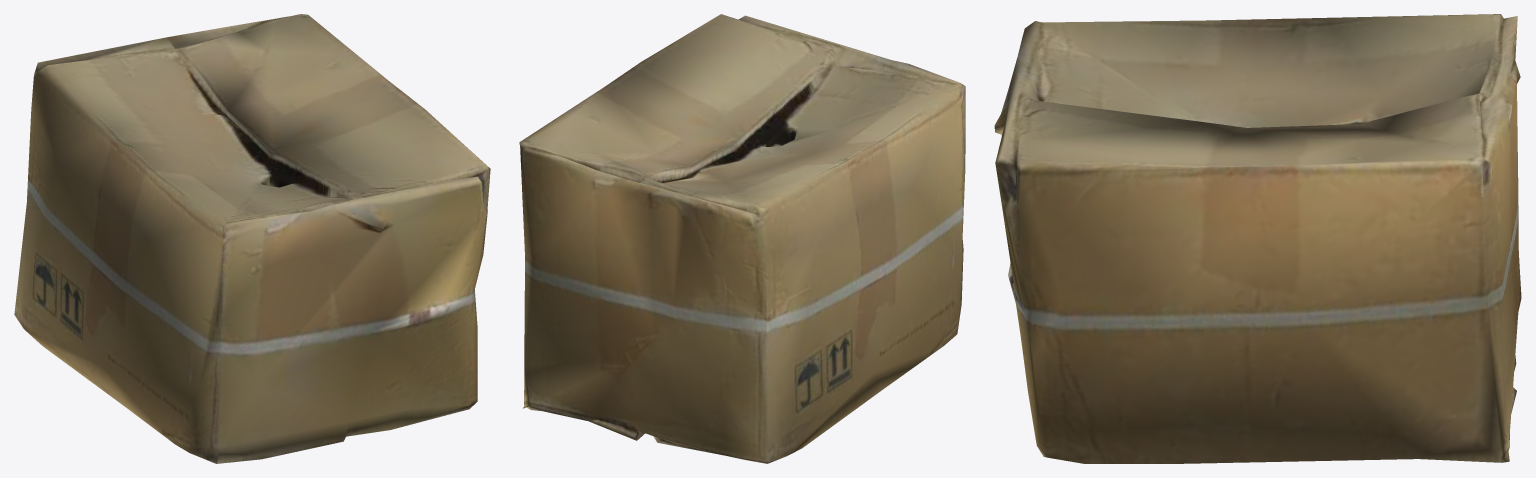
3 views of the same model, side by side, from view 1: azimuth 30°, elevation 25°; view 2: azimuth 150°, elevation 25°; view 3: azimuth 270°, elevation 25° (orthographic). The views are drawn at different scales.
Parts seen in each view (by area): view 1: cardboard_box_01; view 2: cardboard_box_01; view 3: cardboard_box_01.
Part boxes in pixels (box(x1,y1,x2,y2)): cardboard_box_01: box(14, 14, 490, 463); cardboard_box_01: box(519, 14, 965, 463); cardboard_box_01: box(994, 14, 1521, 463).
Size of the model in its own units: 0.3829 by 0.3403 by 0.5159.
Materials: 1 (1 with a texture image).
